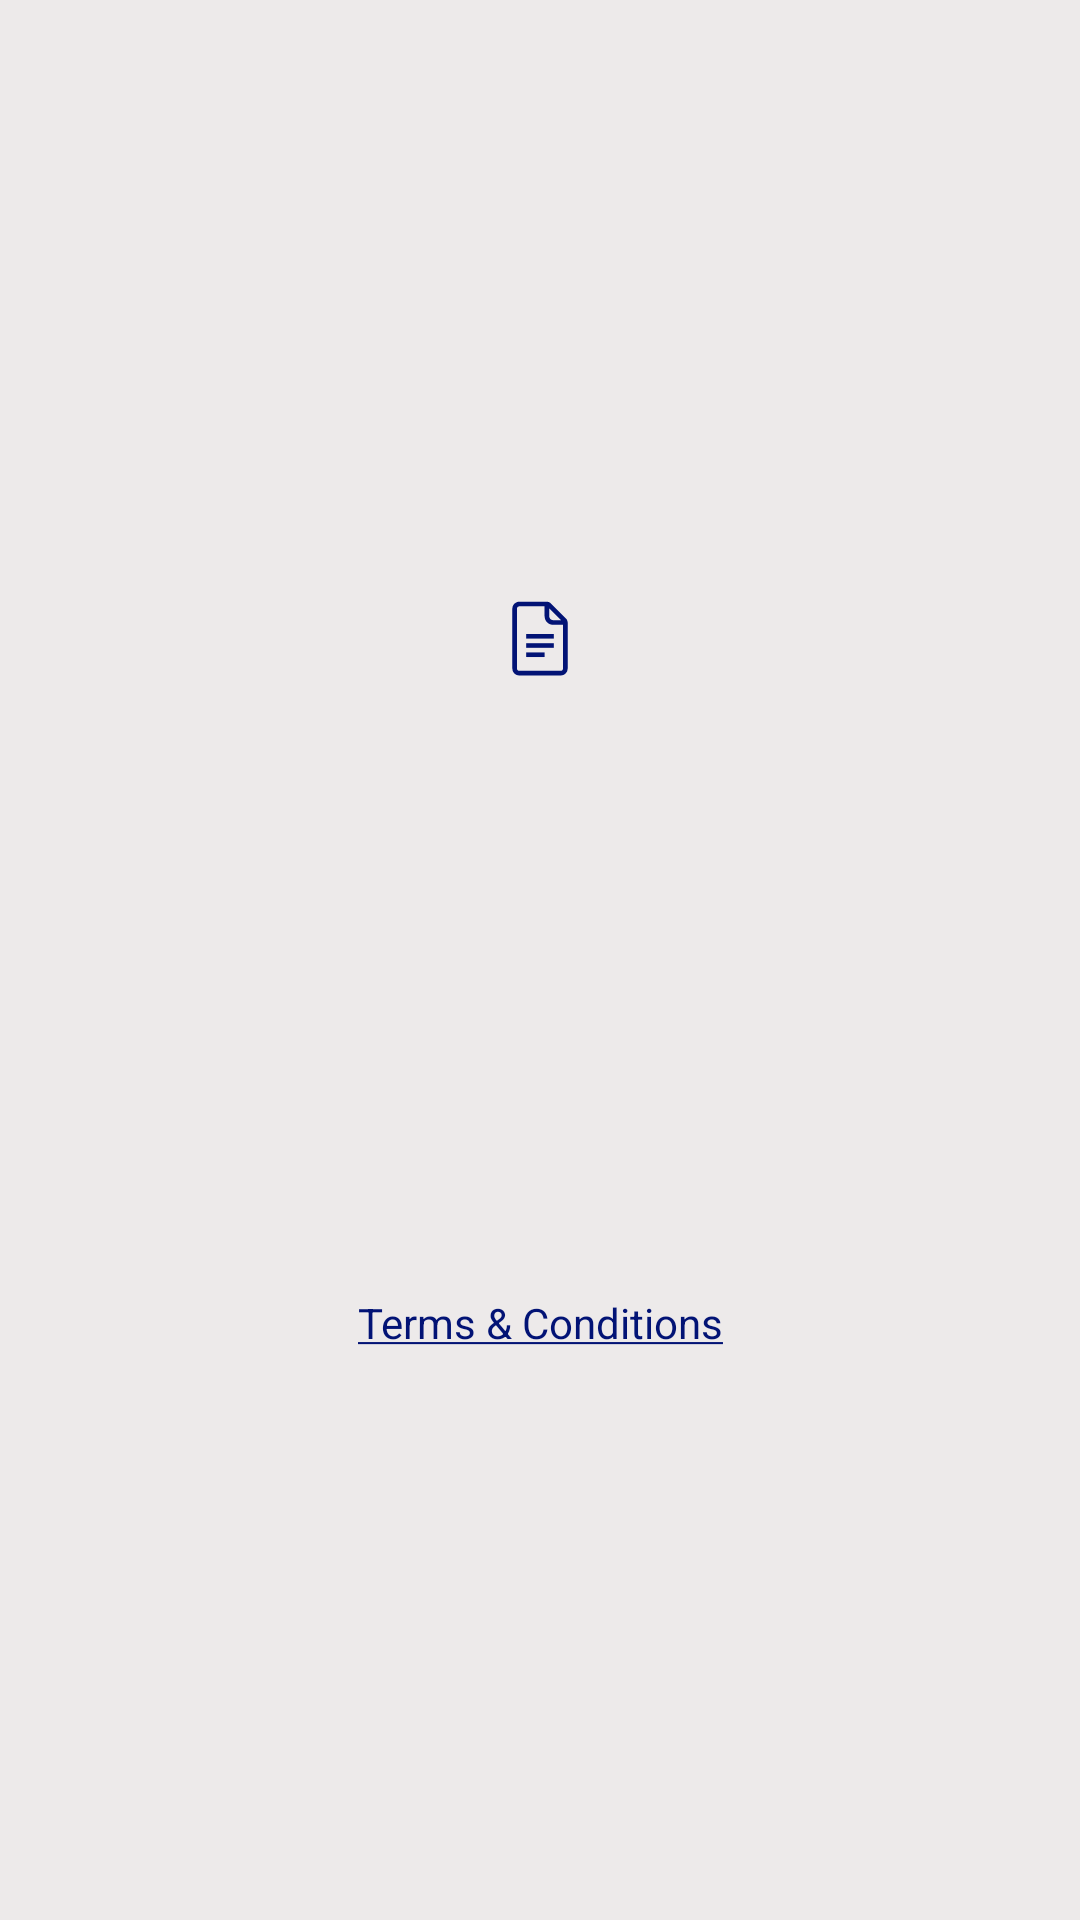

Icons on this 1080x1920 Android screen, each with the point to tap as point (x, y):
terms: point (540, 638)
